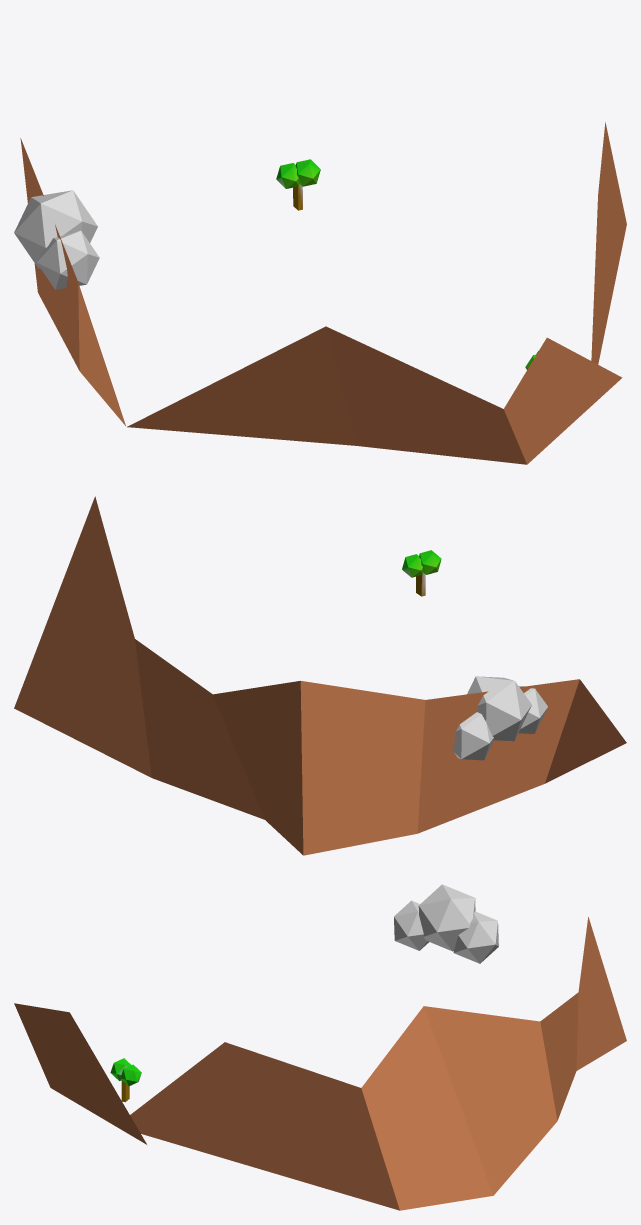
Rendered from montains.gltf.
The picture shows the model from 3 angles, top to bottom: view 1: azimuth 30°, elevation 25°; view 2: azimuth 150°, elevation 25°; view 3: azimuth 270°, elevation 25°; orthographic projection. The views are drawn at different scales.
Parts seen in each view (by area): view 1: Cube; view 2: Cube; view 3: Cube.
Part boxes in pixels (x1,y1,x2,y2): Cube: (14,122,626,464); Cube: (14,496,626,855); Cube: (14,884,626,1210).
Size of the model in its own units: 9.72 by 3.58 by 11.21.
